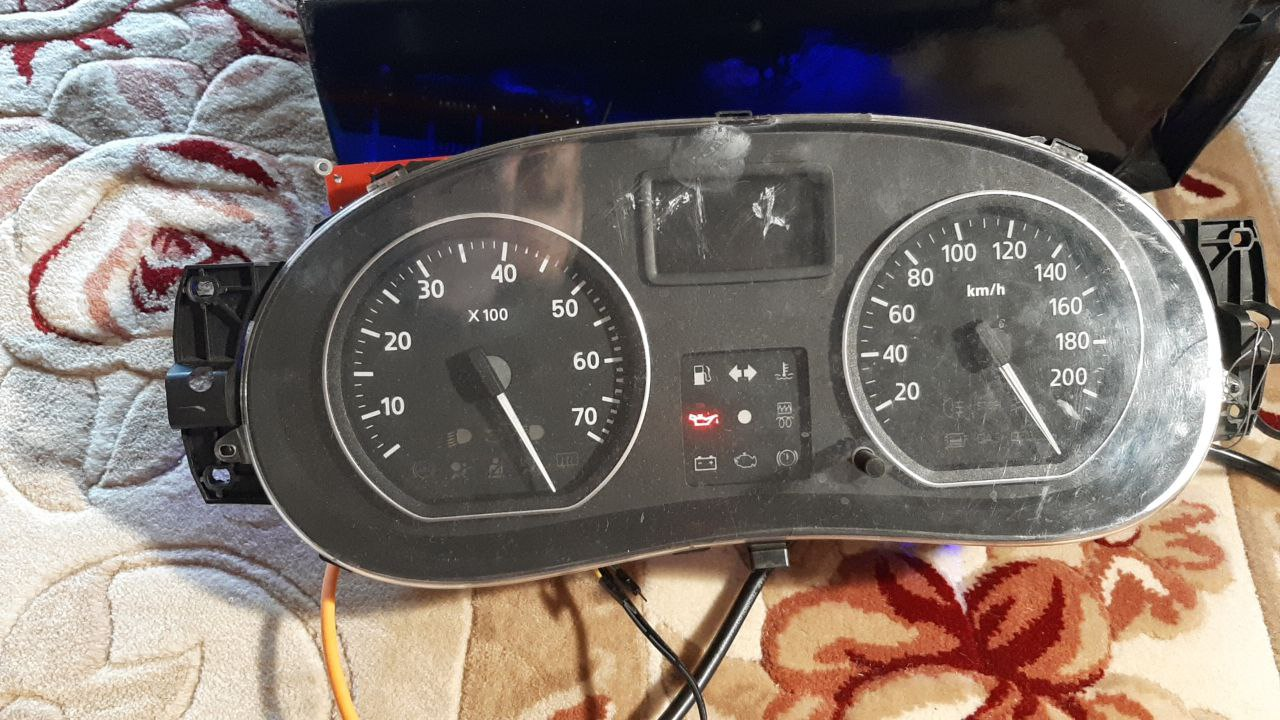oil: (686, 409, 722, 431)
